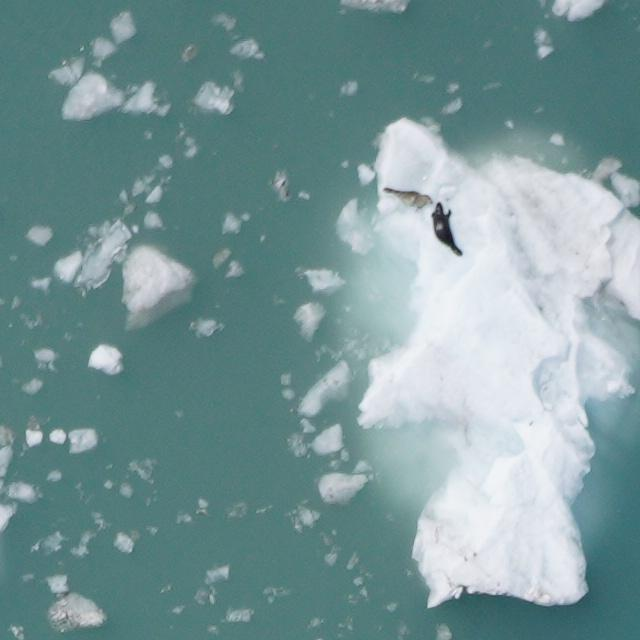seal: (428, 202, 461, 261), (383, 184, 435, 212)
